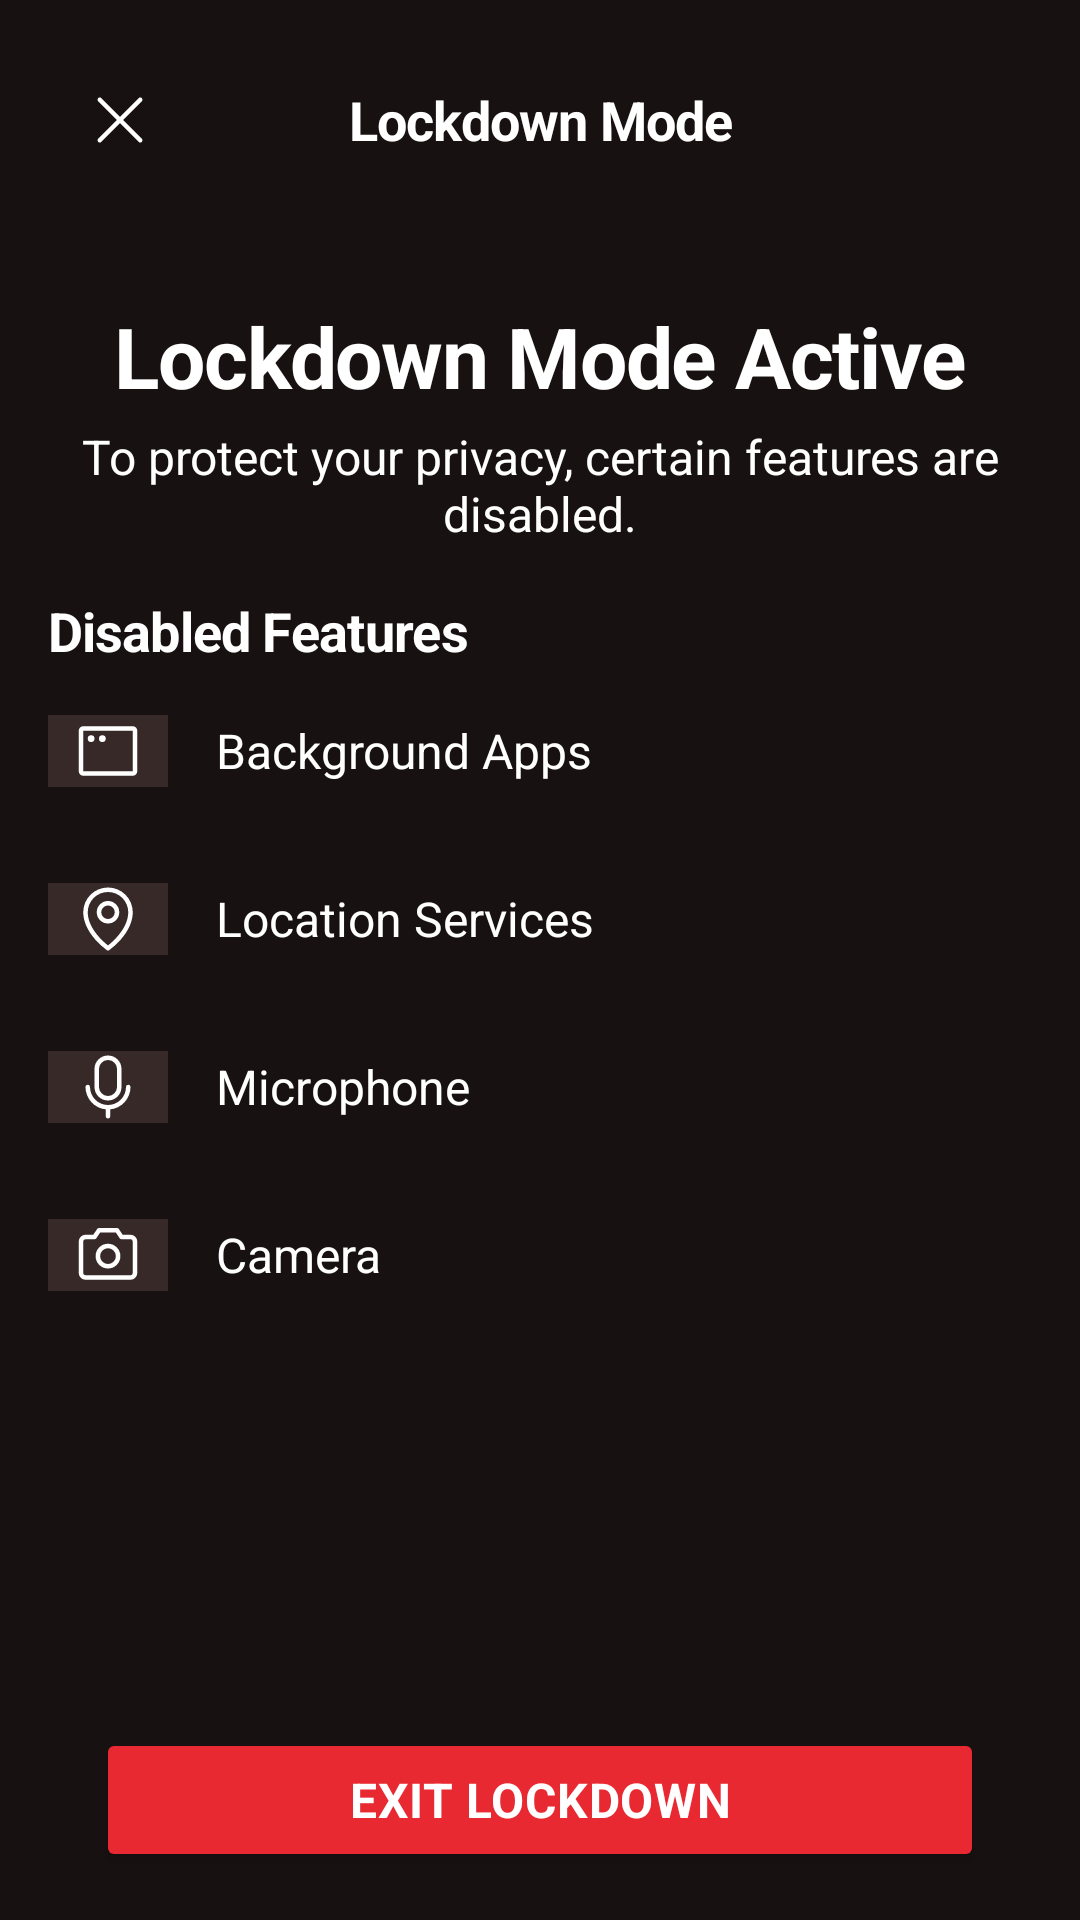

Locate icon controls on the screen. Image size 1080*1920, boxes as (x1, y1, x2, y2).
Close: (97, 97, 143, 143)
